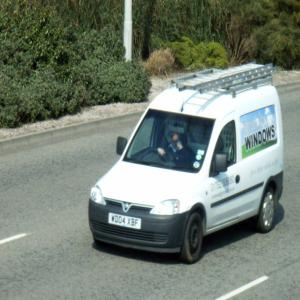Vehicle-registration-plate: (109, 212, 143, 230)
